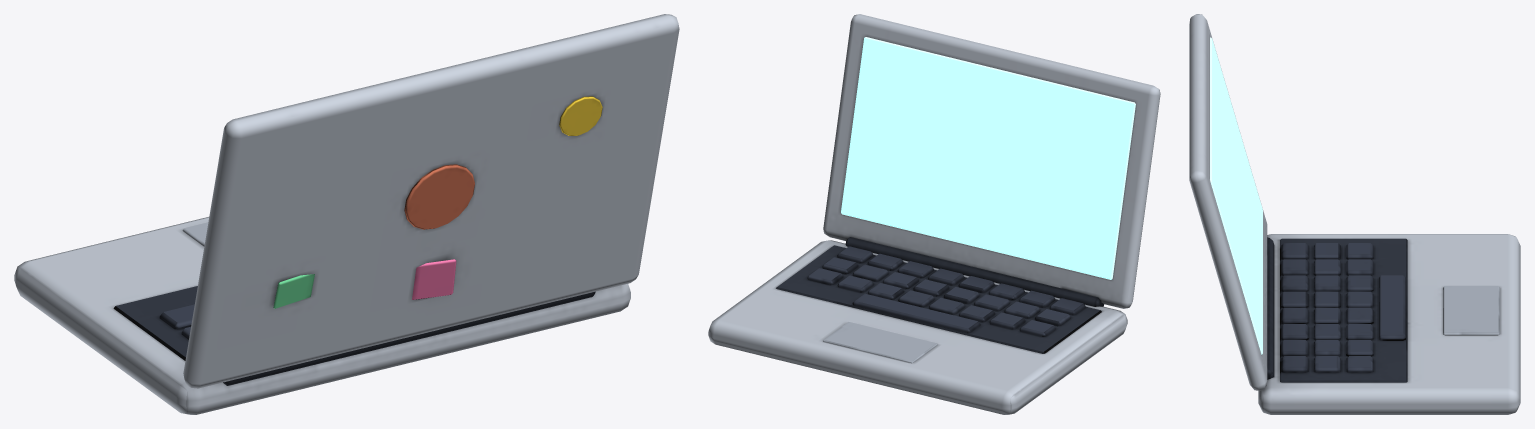
Rendered from held_laptop.glb.
3 renders of one model, left to right at view 1: azimuth 30°, elevation 25°; view 2: azimuth 150°, elevation 25°; view 3: azimuth 270°, elevation 25°, orthographic. The views are drawn at different scales.
Visible parts, largest first — view 1: held_laptop; view 2: held_laptop; view 3: held_laptop.
Part boxes in pixels (x1,y1,x2,y2): held_laptop: (14, 14, 679, 414); held_laptop: (708, 14, 1160, 414); held_laptop: (1189, 14, 1520, 414).
Size of the model in its own units: 0.34 by 0.2375 by 0.2905.
9 materials, 8 textured.
